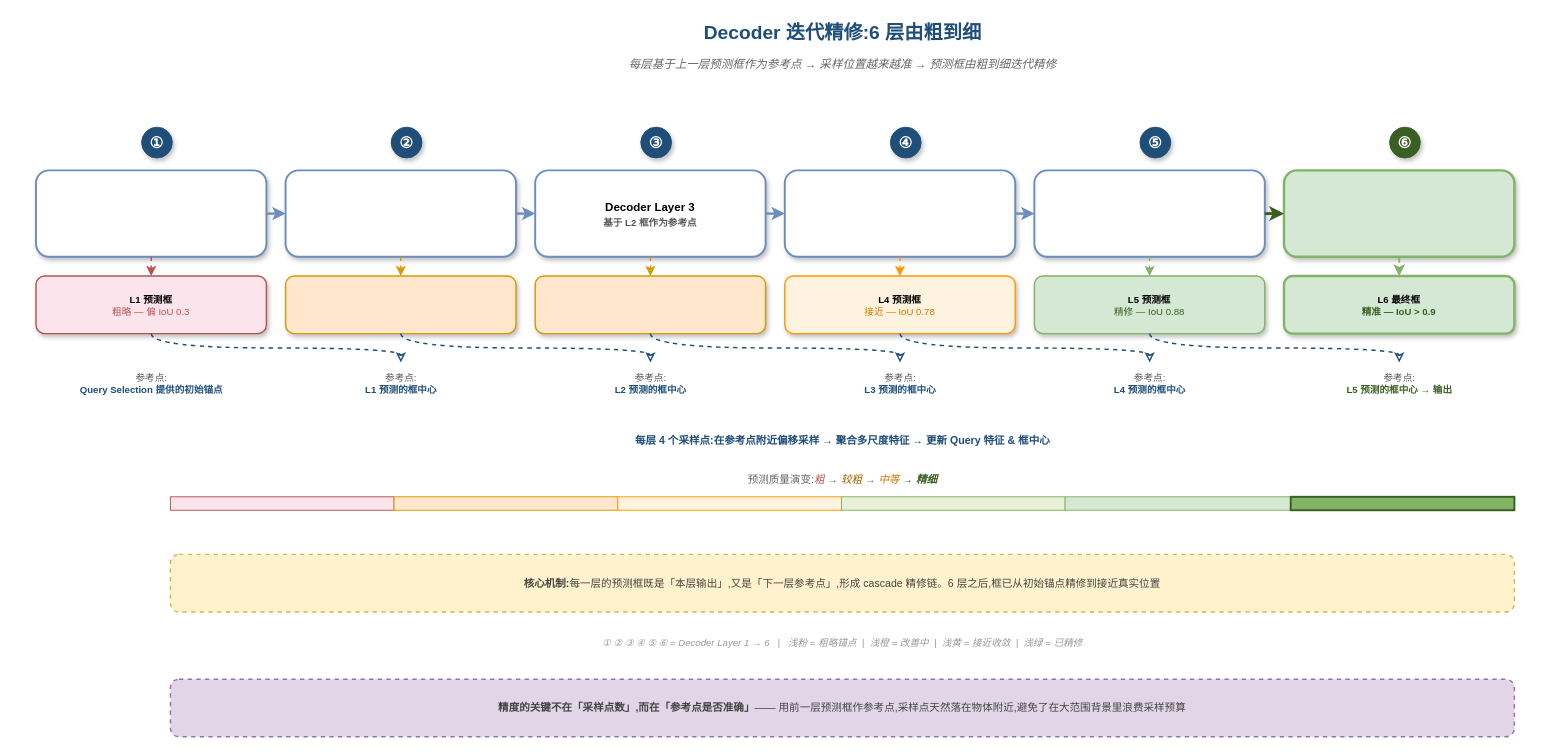
Some shapes in this 1549 by 754 pixel diagram are drawn without their labels. The centre of each missing label's shape, as x and y in pixels:
"Decoder Layer 1 可变形交叉注意力 + FFN" goes at (152,214).
"Decoder Layer 2 基于 L1 框作为参考点" goes at (401,214).
"Decoder Layer 4 基于 L3 框作为参考点" goes at (900,214).
"Decoder Layer 5 基于 L4 框作为参考点" goes at (1150,214).
"Decoder Layer 6 精修后的最终框" goes at (1400,214).
"L2 预测框 改善 — IoU 0.5" goes at (401,306).
"L3 预测框 较准 — IoU 0.65" goes at (651,306).
